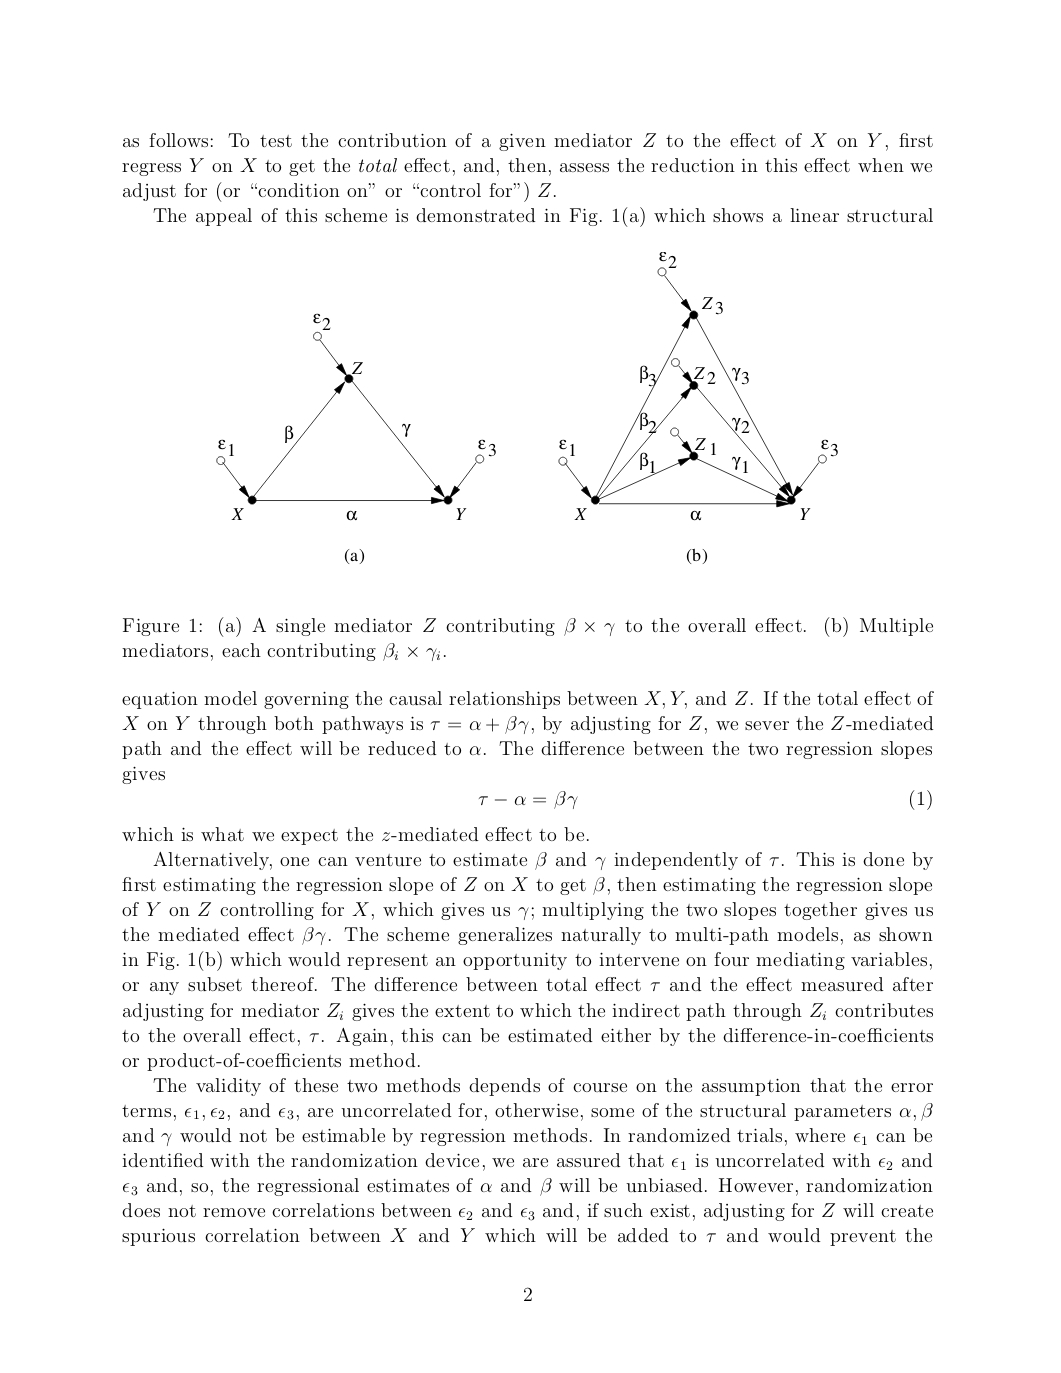figure: (558, 252, 837, 520), (216, 313, 495, 520)
formula: (478, 789, 931, 810)
